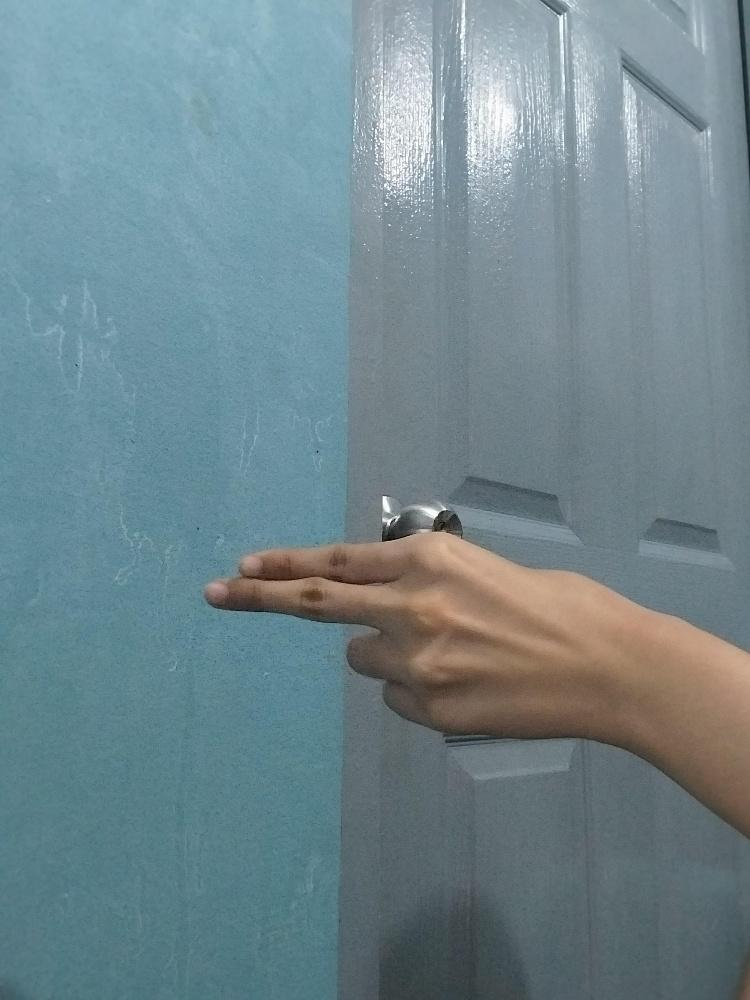h: (196, 531, 591, 740)
